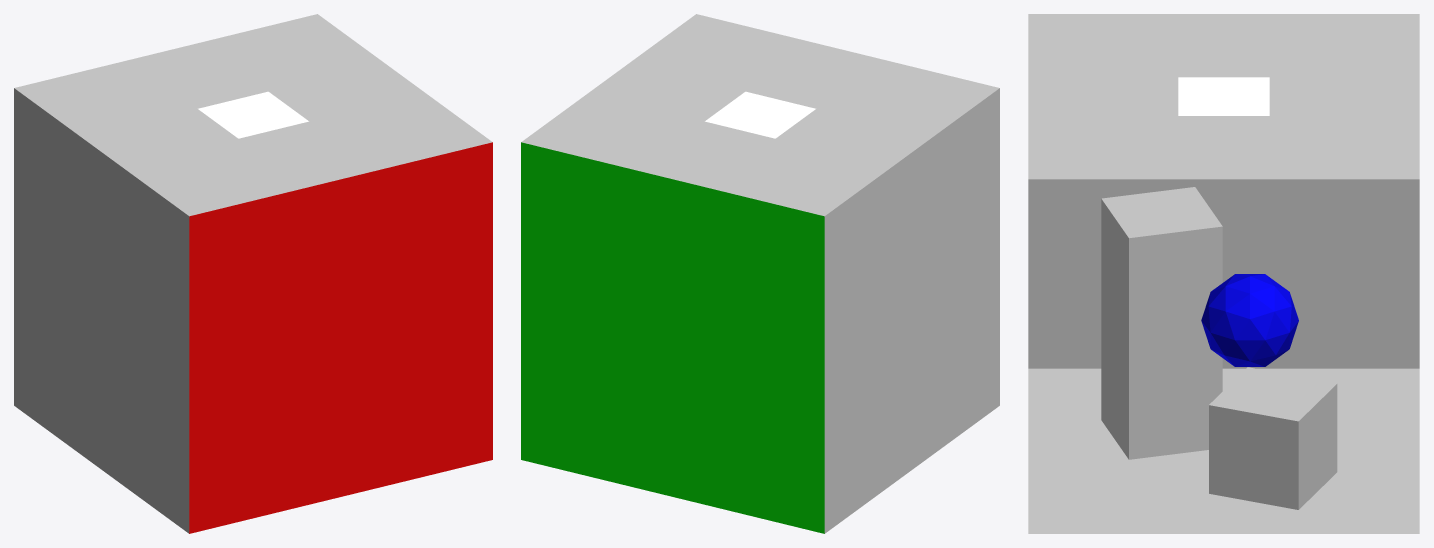
Rendered from my_cornell_6.gltf.
3 views of the same model, side by side, from view 1: azimuth 30°, elevation 25°; view 2: azimuth 150°, elevation 25°; view 3: azimuth 270°, elevation 25° (orthographic). The views are drawn at different scales.
Parts seen in each view (by area): view 1: LeftWall, BackWall, Ceiling, Light; view 2: RightWall, BackWall, Ceiling, Light; view 3: Ceiling, BackWall, Floor, Prism, Cube, Icosphere, Light.
Boxes of the visible parts, x1,y1,x2,y2 form: LeftWall: (189, 142, 492, 533); BackWall: (14, 88, 189, 533); Ceiling: (14, 14, 492, 216); Light: (198, 91, 308, 138); RightWall: (521, 142, 824, 533); BackWall: (824, 88, 999, 533); Ceiling: (521, 14, 999, 216); Light: (705, 91, 815, 138); Ceiling: (1028, 14, 1419, 179); BackWall: (1028, 179, 1419, 368); Floor: (1028, 368, 1419, 533); Prism: (1101, 187, 1222, 459); Cube: (1209, 367, 1337, 509); Icosphere: (1201, 274, 1298, 366); Light: (1178, 77, 1269, 115).
Size of the model in its own units: 8 by 8 by 8.
